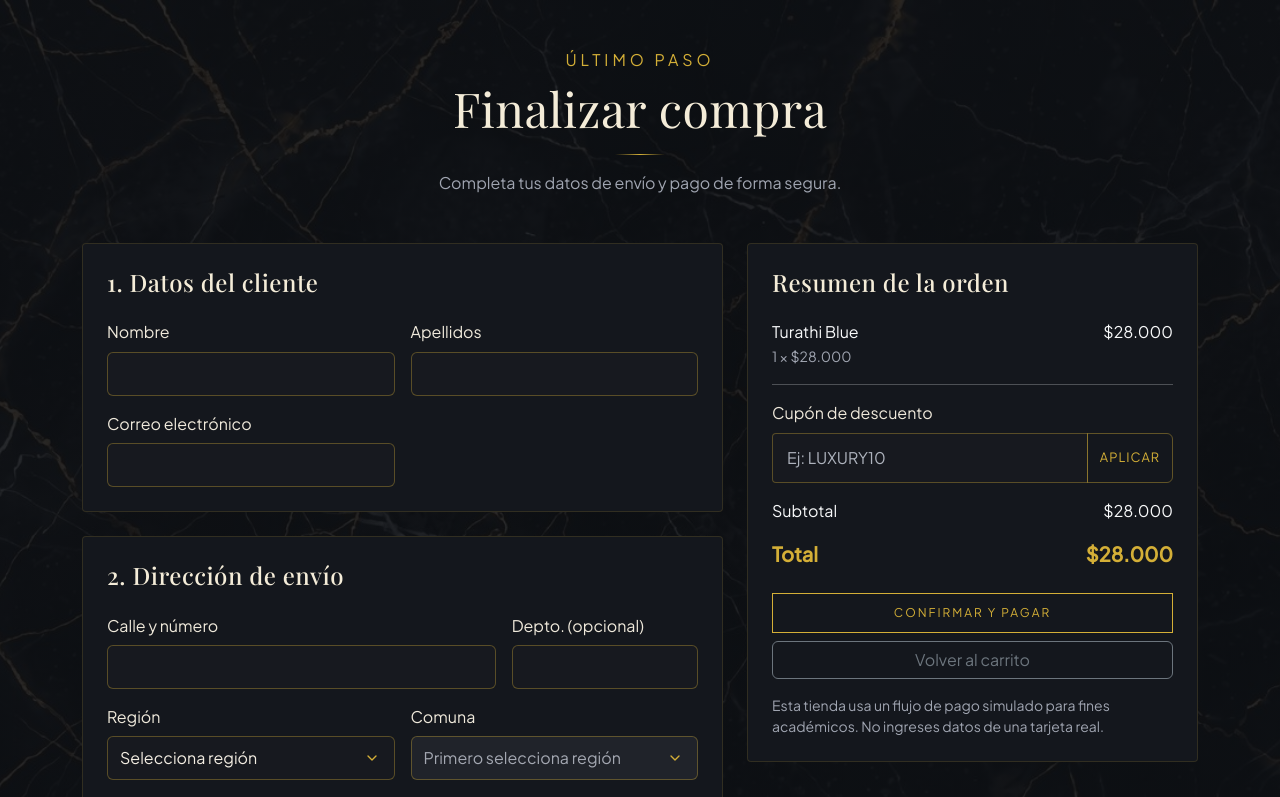
Scenario: Checkout (eventos) › muestra un mensaje si se intenta pagar con número de tarjeta inválido
Click the button "Confirmar y pagar": (972, 613) [772,593,1173,633]
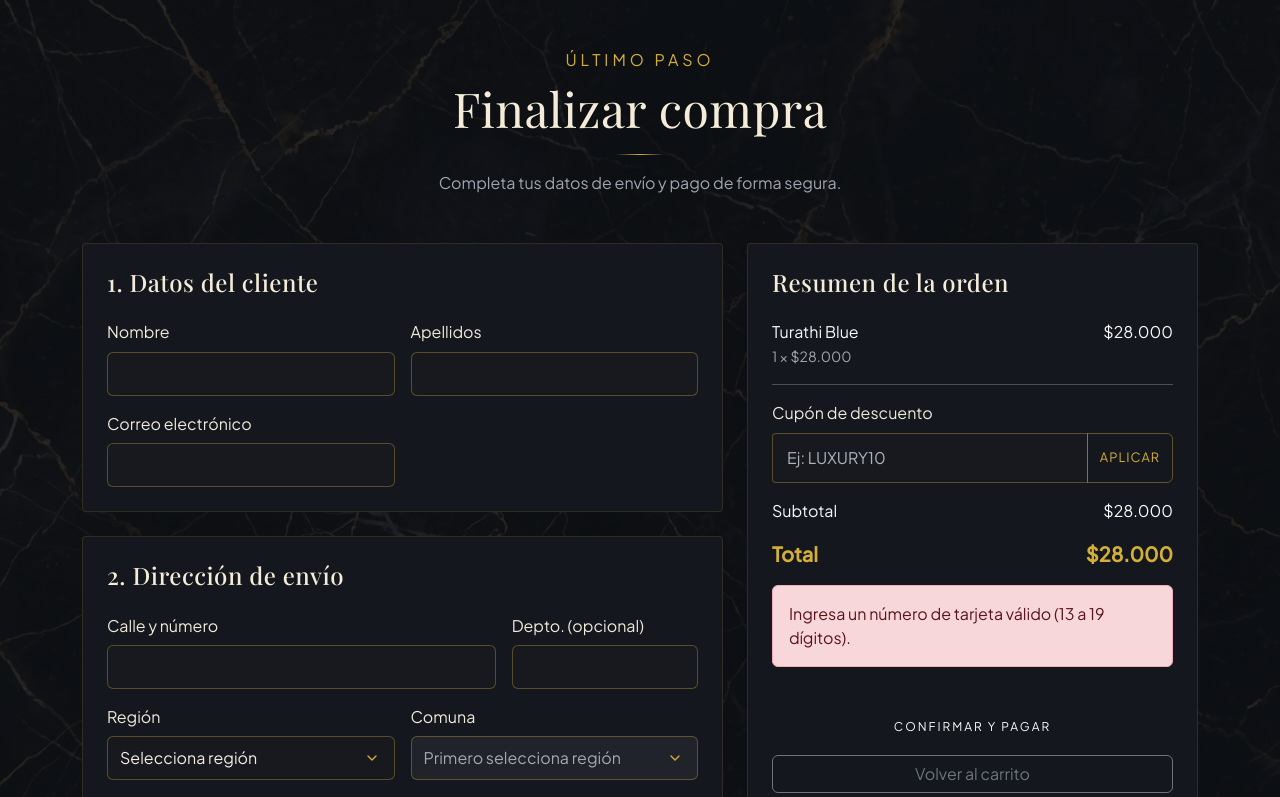
Result: the message shows "Ingresa un número de tarjeta válido" at [789,603,1104,648]
